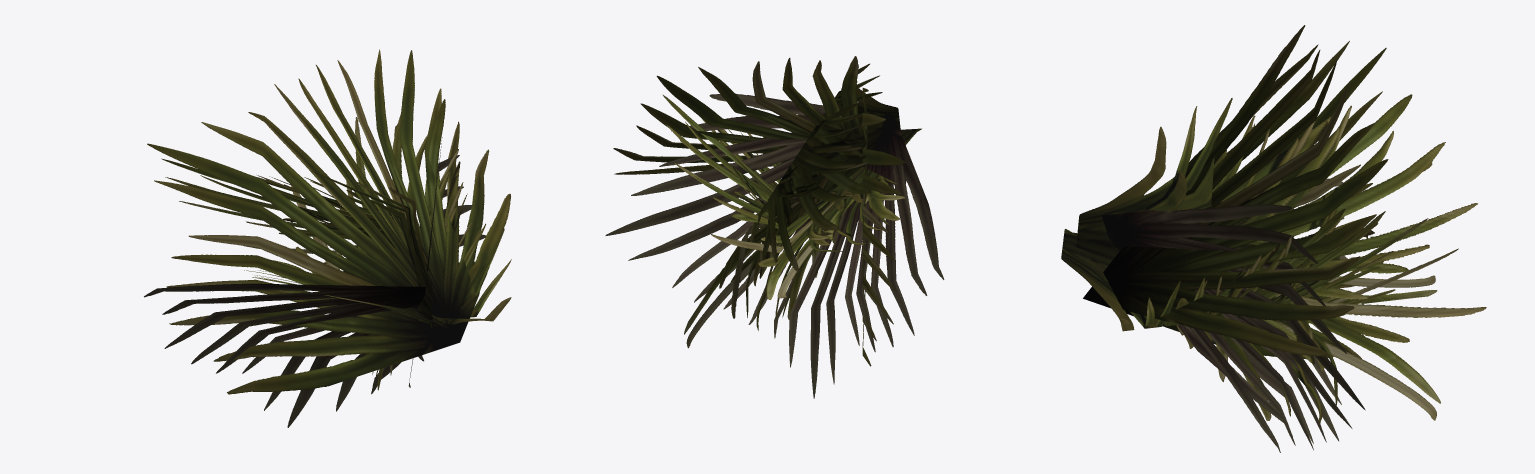
The model's file is MEP_Pandani_04.fbx.
3 renders of one model, left to right at view 1: azimuth 30°, elevation 25°; view 2: azimuth 150°, elevation 25°; view 3: azimuth 270°, elevation 25°, orthographic. The views are drawn at different scales.
Parts seen in each view (by area): view 1: MEP_Pandani_04; view 2: MEP_Pandani_04; view 3: MEP_Pandani_04.
Boxes of the visible parts, left/top/right/bottom form: MEP_Pandani_04: left=144, top=49, right=511, bottom=427; MEP_Pandani_04: left=605, top=56, right=944, bottom=398; MEP_Pandani_04: left=1061, top=25, right=1486, bottom=452.
Bounding box in the file's own units: 2.33 × 2 × 1.93.
